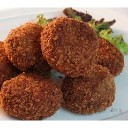cutlet: (45, 15, 100, 76), (3, 72, 62, 119), (64, 67, 116, 114), (4, 21, 43, 71), (98, 35, 126, 78)
